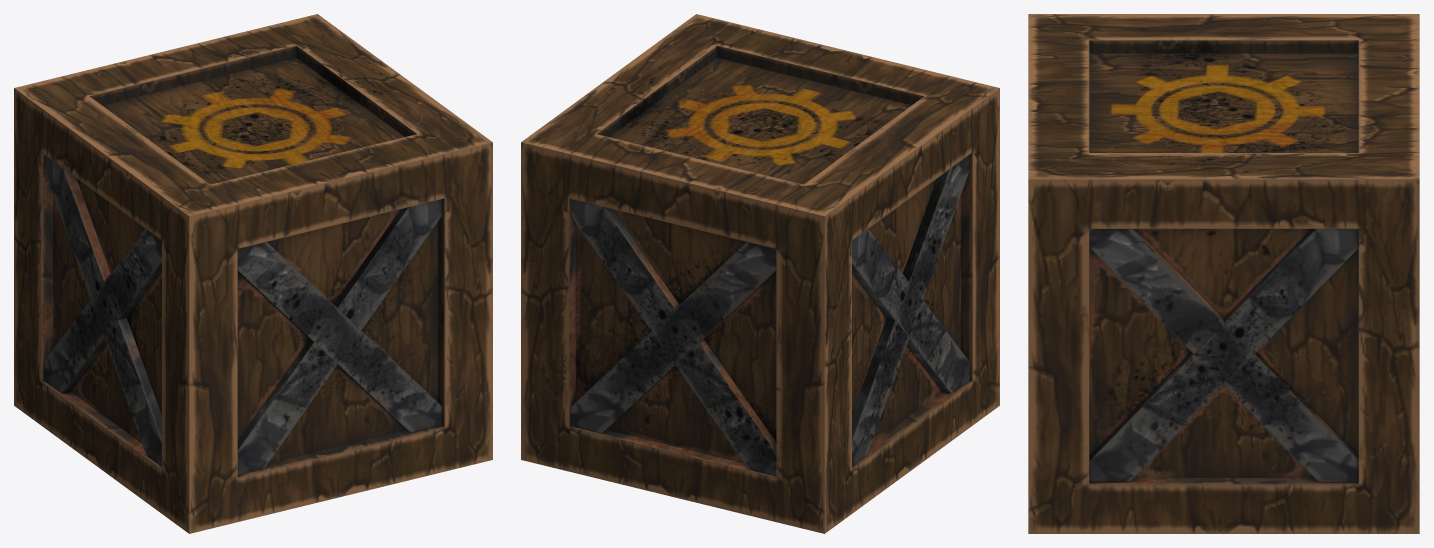
3 renders of one model, left to right at view 1: azimuth 30°, elevation 25°; view 2: azimuth 150°, elevation 25°; view 3: azimuth 270°, elevation 25°, orthographic. The views are drawn at different scales.
Parts seen in each view (by area): view 1: Object_2; view 2: Object_2; view 3: Object_2.
Part boxes in pixels (bbox=[...]): Object_2: bbox=[14, 14, 492, 533]; Object_2: bbox=[521, 14, 999, 533]; Object_2: bbox=[1028, 14, 1419, 533].
Size of the model in its own units: 0.6408 by 0.6408 by 0.6408.
1 material, 1 textured.
